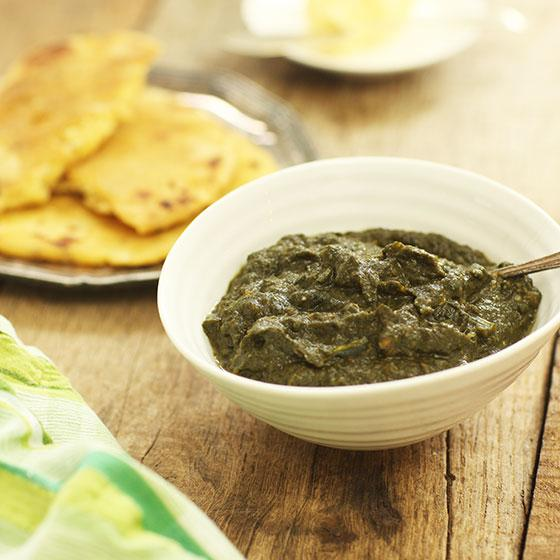saag: (200, 226, 543, 386)
